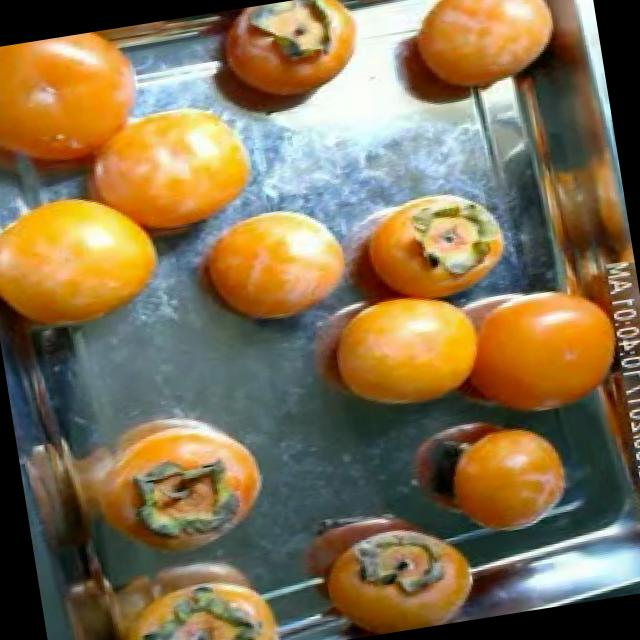Fruit: (0, 168, 190, 358), (163, 185, 378, 352), (290, 286, 494, 440), (358, 0, 580, 122), (421, 414, 588, 544)
